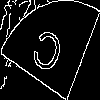C: (24, 25, 66, 86)
